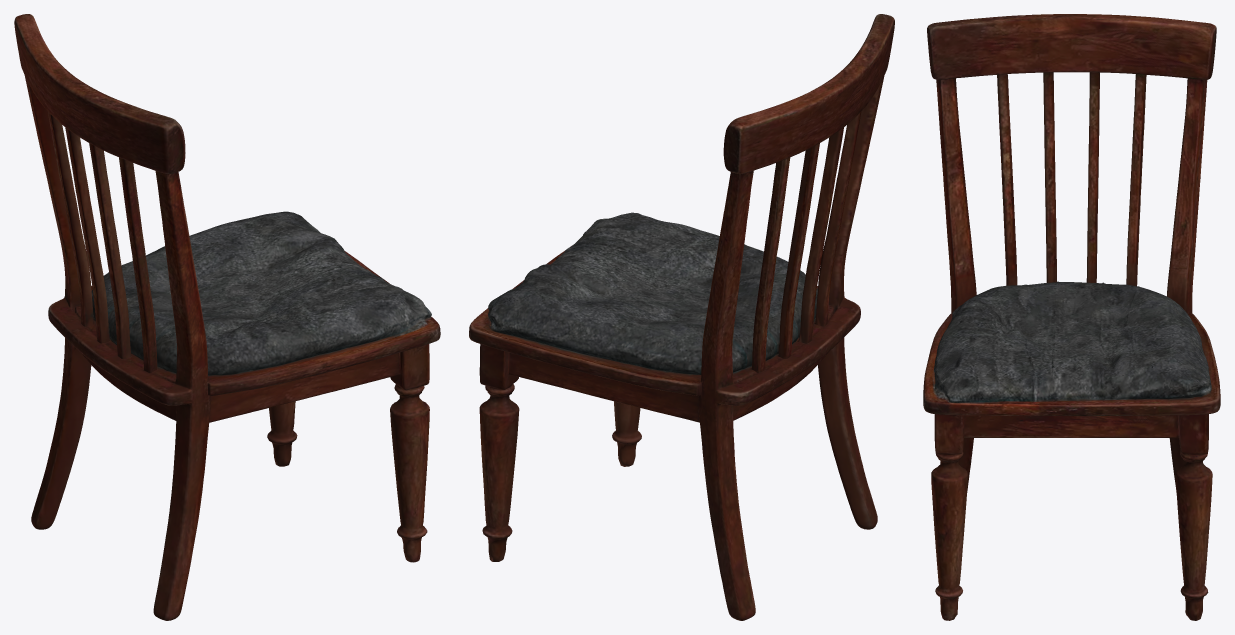
The model's file is dining-chair.glb.
The picture shows the model from 3 angles, left to right: view 1: azimuth 30°, elevation 25°; view 2: azimuth 150°, elevation 25°; view 3: azimuth 270°, elevation 25°; orthographic projection. The views are drawn at different scales.
Visible parts, largest first — view 1: tripo_node_01a2180a-fbda-701b-b2de-8d41d792ef15; view 2: tripo_node_01a2180a-fbda-701b-b2de-8d41d792ef15; view 3: tripo_node_01a2180a-fbda-701b-b2de-8d41d792ef15.
Boxes of the visible parts, <box> form: tripo_node_01a2180a-fbda-701b-b2de-8d41d792ef15: <box>14,14,440,620</box>; tripo_node_01a2180a-fbda-701b-b2de-8d41d792ef15: <box>469,14,894,620</box>; tripo_node_01a2180a-fbda-701b-b2de-8d41d792ef15: <box>923,14,1220,620</box>.
Size of the model in its own units: 0.6467 by 1 by 0.5638.
1 material, 1 textured.
